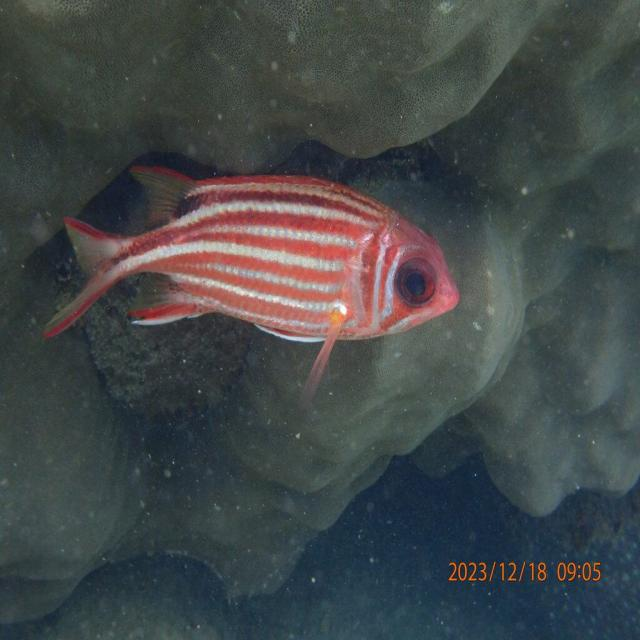Asker Baligi: (44, 146, 466, 394)
